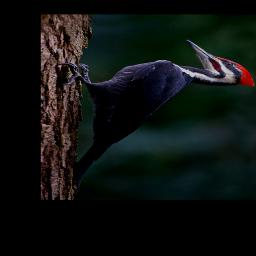Woodpecker: (55, 40, 255, 198)
